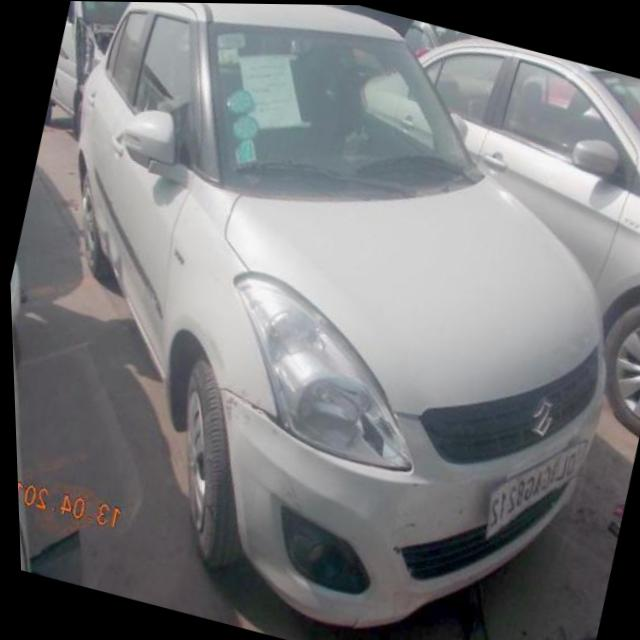Car-Damage: (238, 400, 338, 461), (266, 461, 313, 513), (210, 380, 244, 428), (382, 504, 416, 540)
